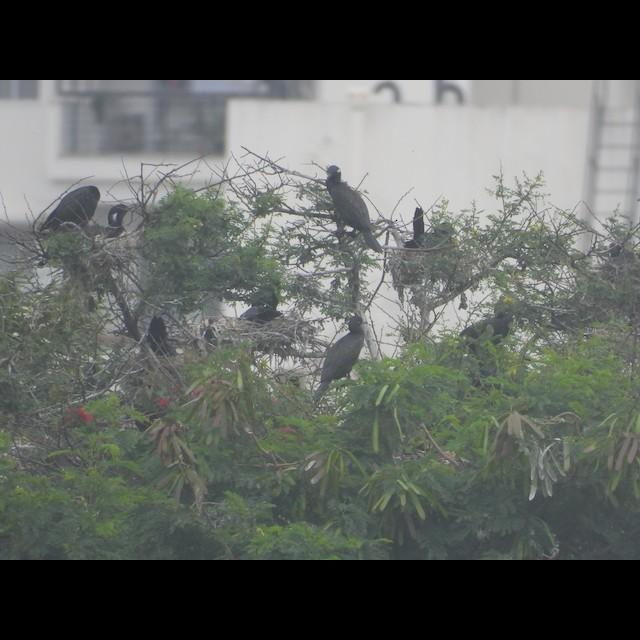cormorant: (308, 314, 372, 398), (325, 166, 381, 260)
